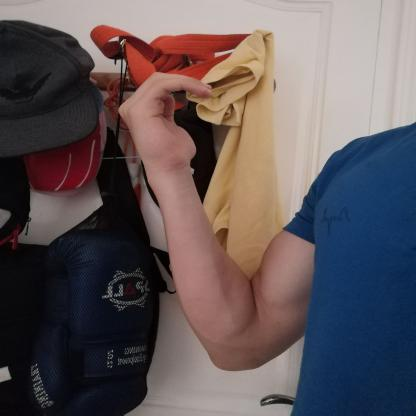HAA: (104, 61, 232, 179)
